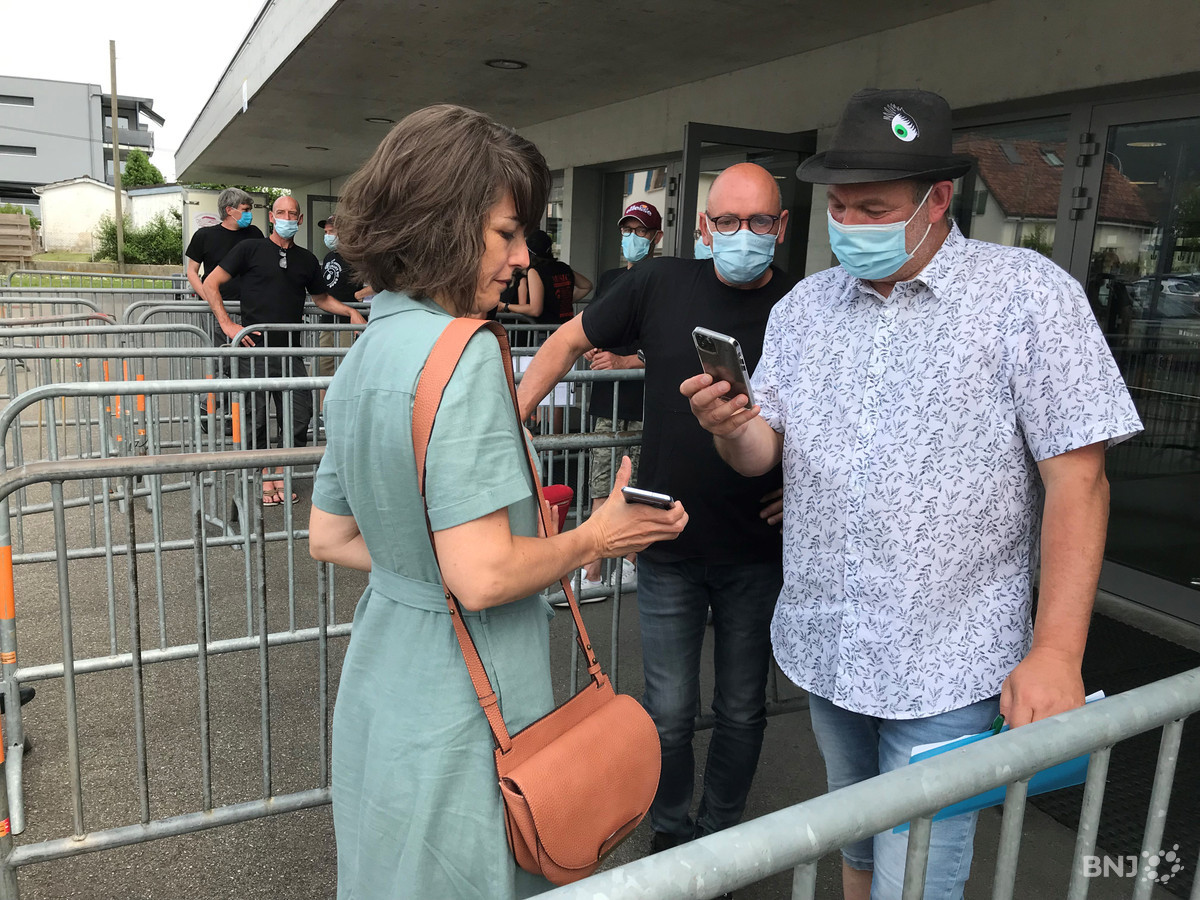with_mask: (830, 185, 923, 274), (713, 208, 776, 283)
without_mask: (480, 206, 528, 309)
